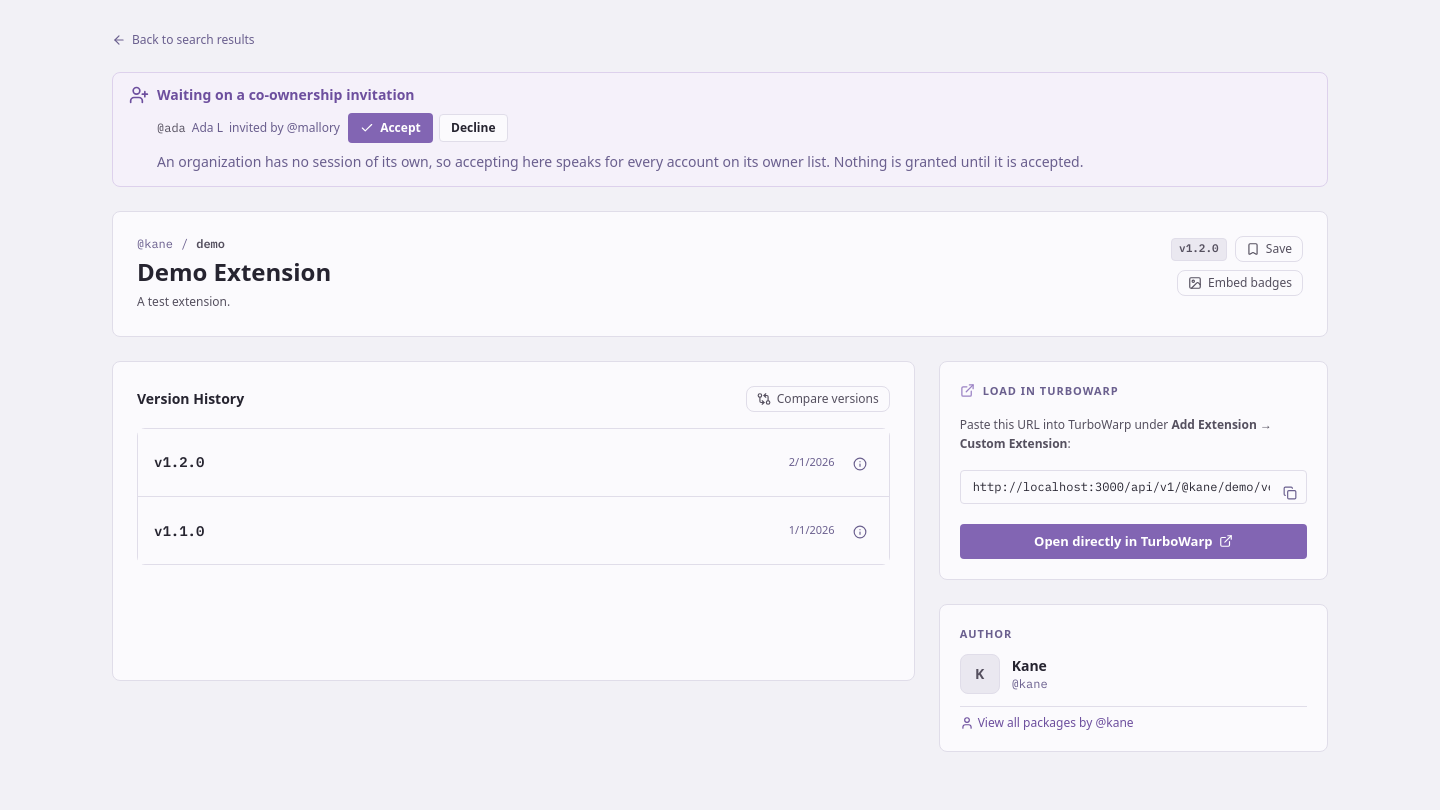
Test case: ExtensionDetailPage › keeps the invitation and the answer when accepting fails
Click the button "Accept" at (390, 128), box [348,113,433,143]
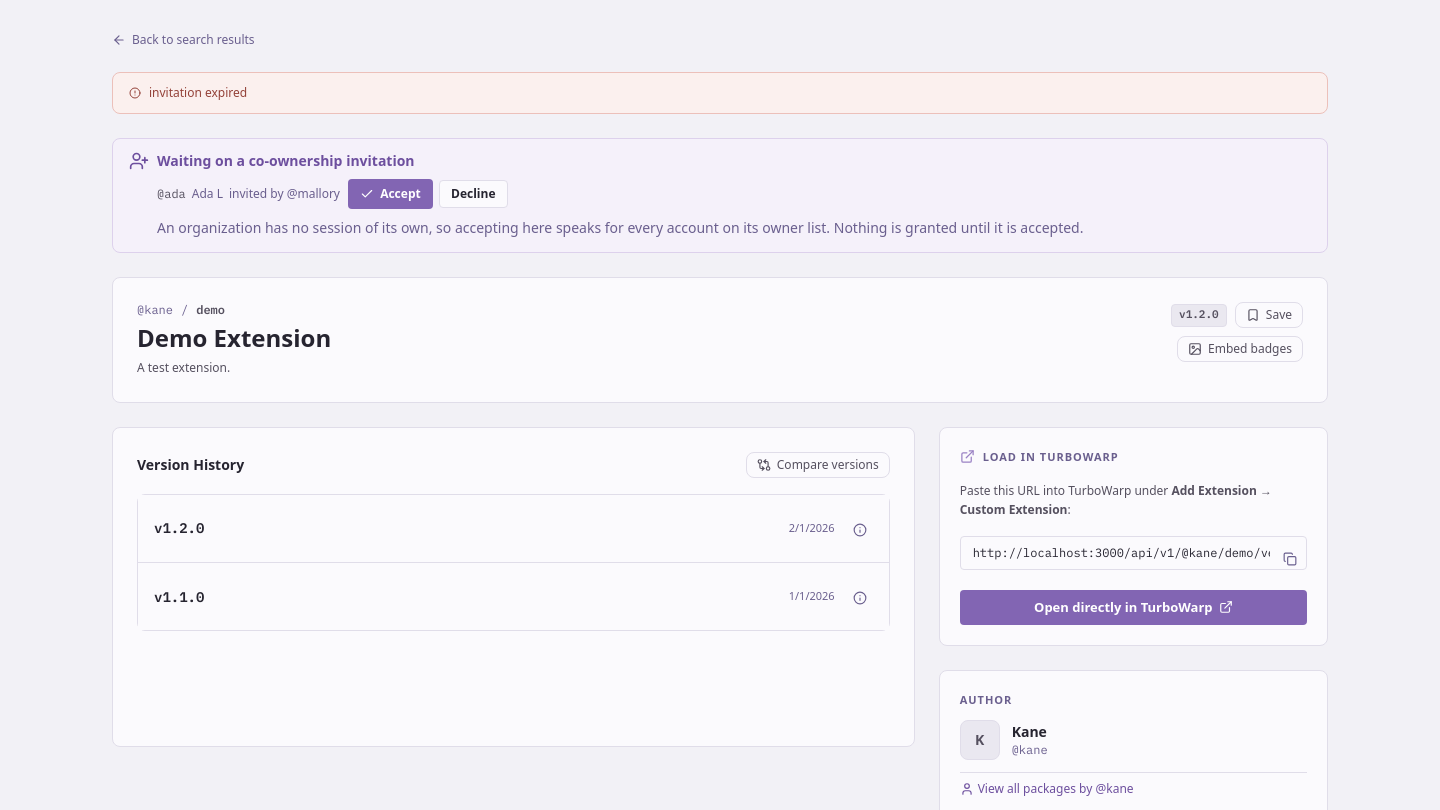
expect the list item with test id "pending-owner-invite" is shown: met, box [157,179,508,209]
expect the text "invitation expired" is shown: met, box [149,85,247,101]
